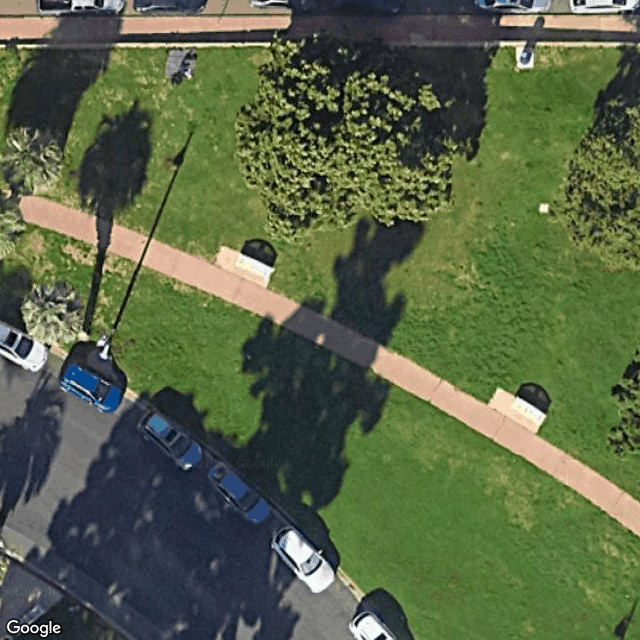palm: (16, 273, 92, 359), (2, 119, 73, 206)
